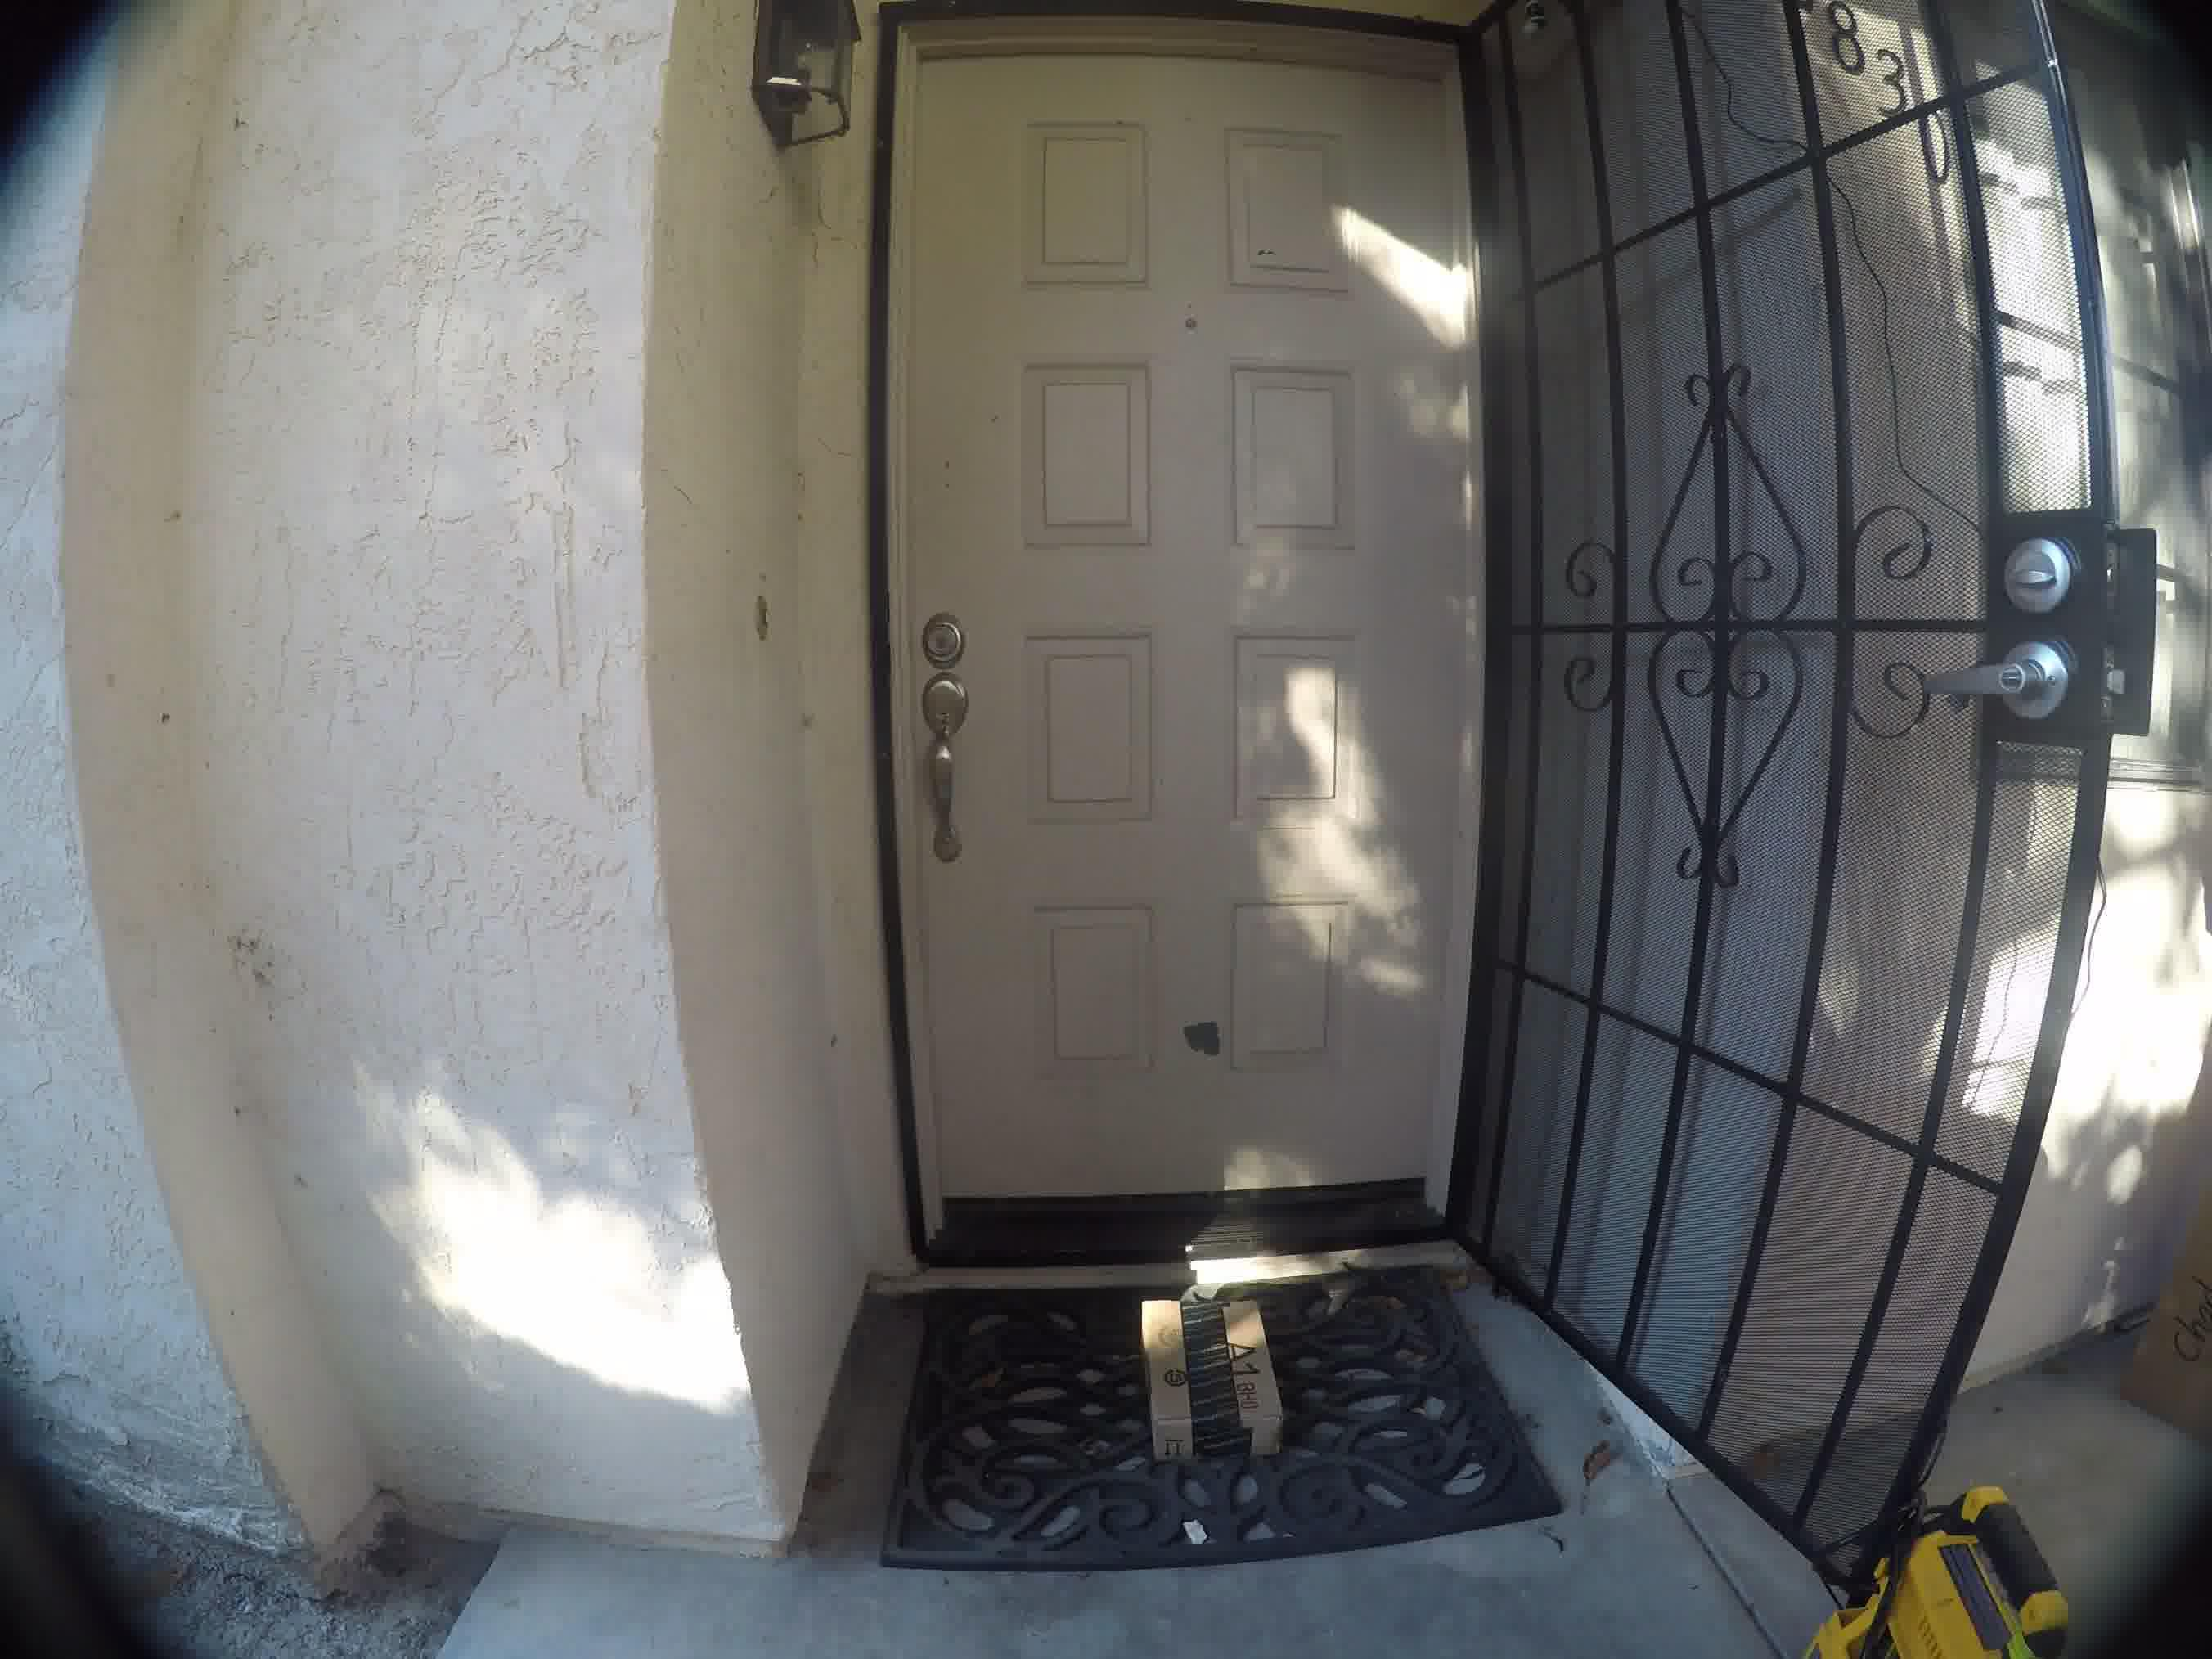box: (1122, 1290, 1308, 1467)
